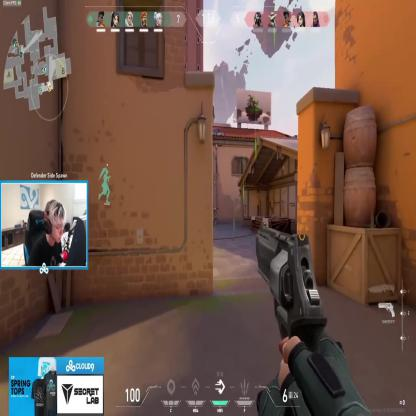enemy: (213, 205, 217, 226)
enemy_head: (214, 205, 216, 209)
